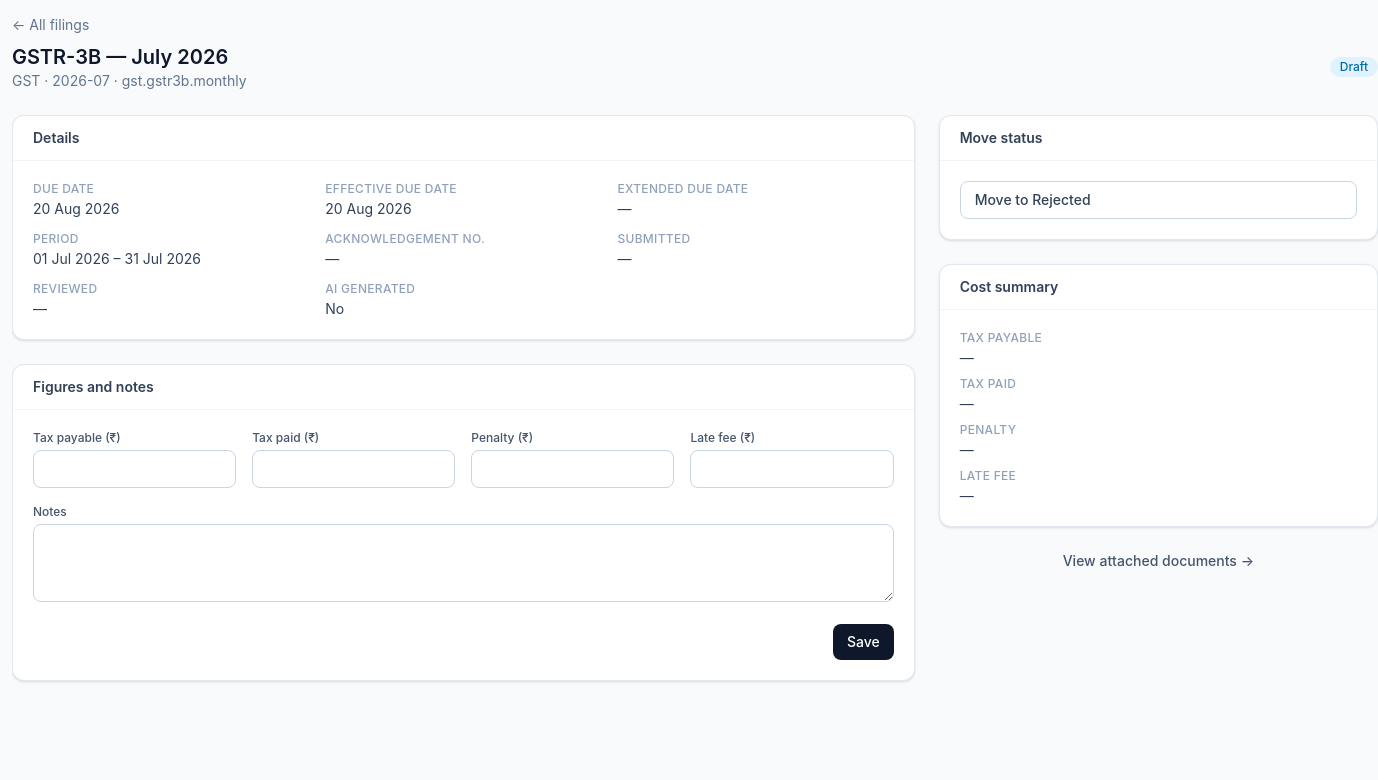
Test: FilingDetailPage › requires a non-empty rejection reason before the Confirm button is enabled
The width and height of the screenshot is (1378, 780).
Click the button "Move to Rejected": x=1003, y=200 left=960, top=181, right=1357, bottom=219
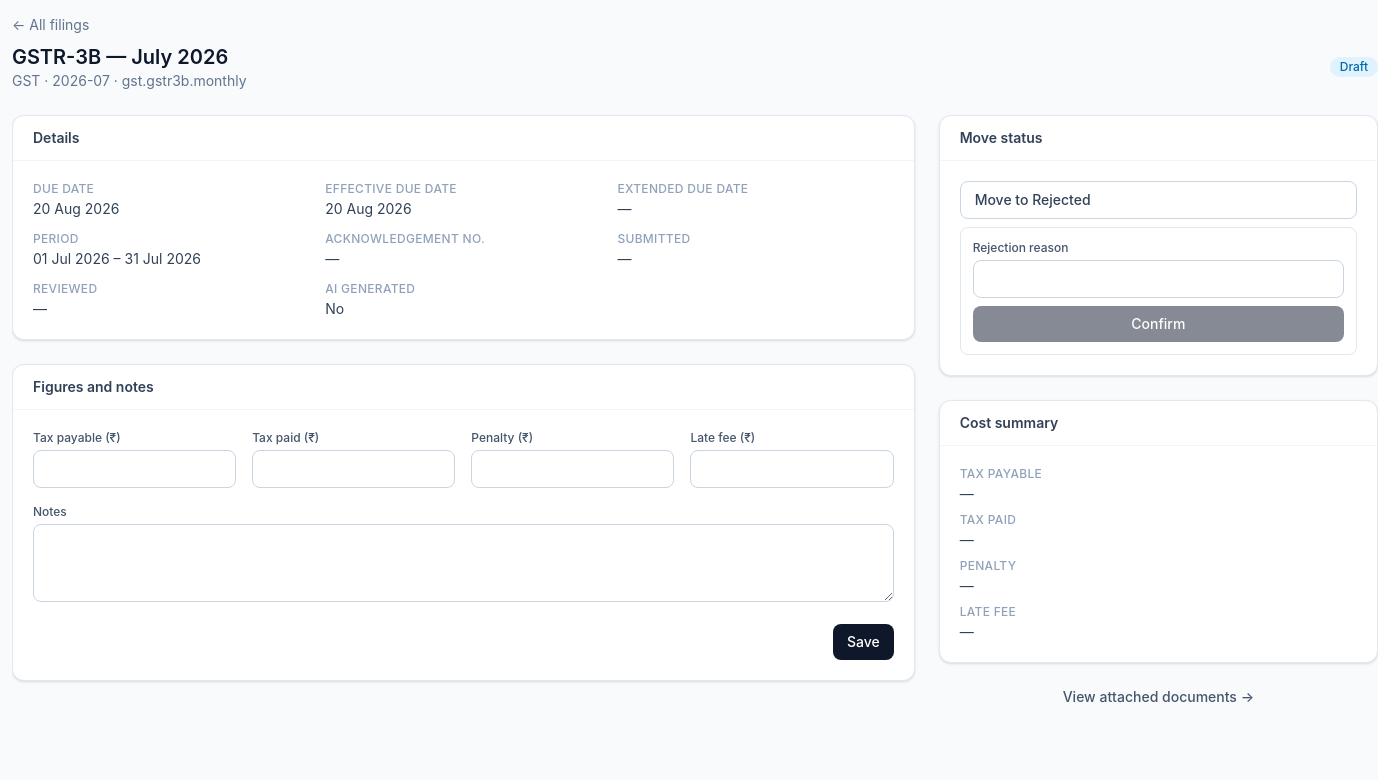
Expected: the button "Confirm" is disabled, left=973, top=306, right=1344, bottom=342
In the field labelled "Rejection reason": x=1158, y=279 left=973, top=260, right=1344, bottom=298, type "GSTIN mismatch with PAN records"
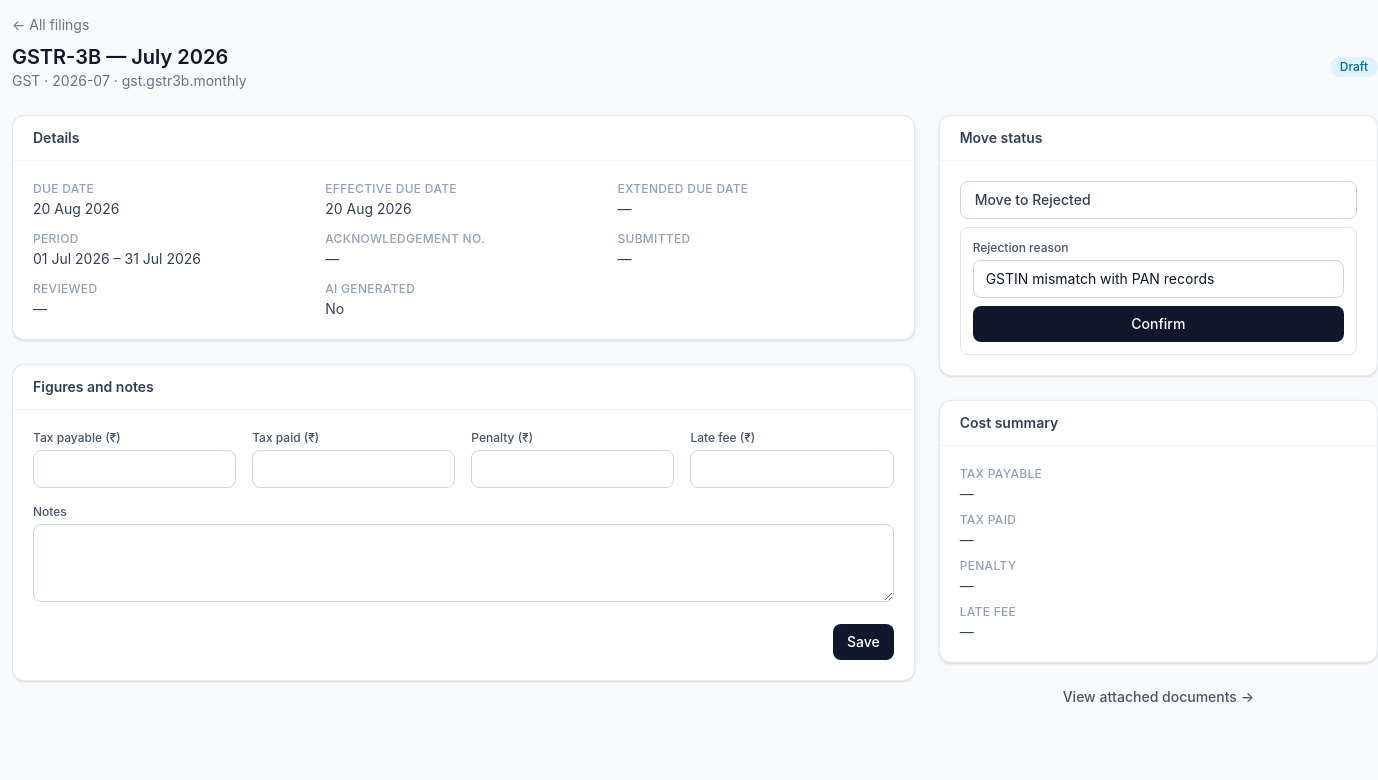
Expected: the button "Confirm" is enabled, left=973, top=306, right=1344, bottom=342
